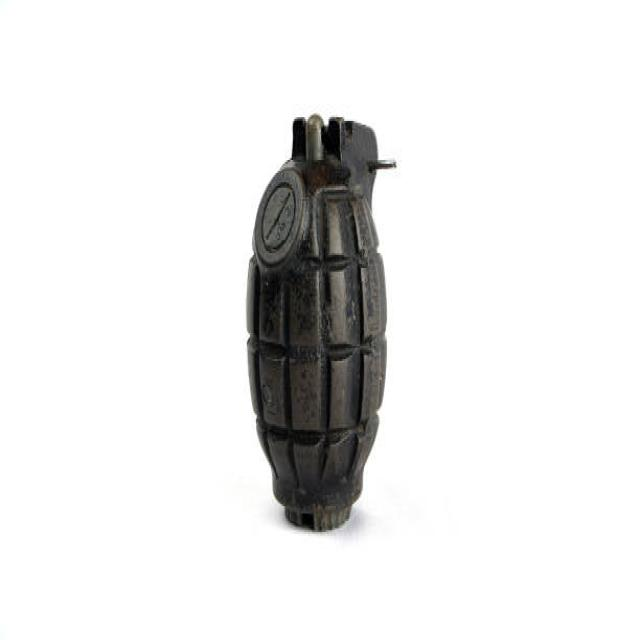grenade: (241, 97, 400, 549)
